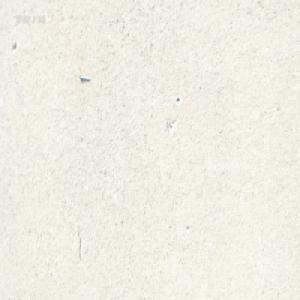Nail: (78, 73, 91, 81)
